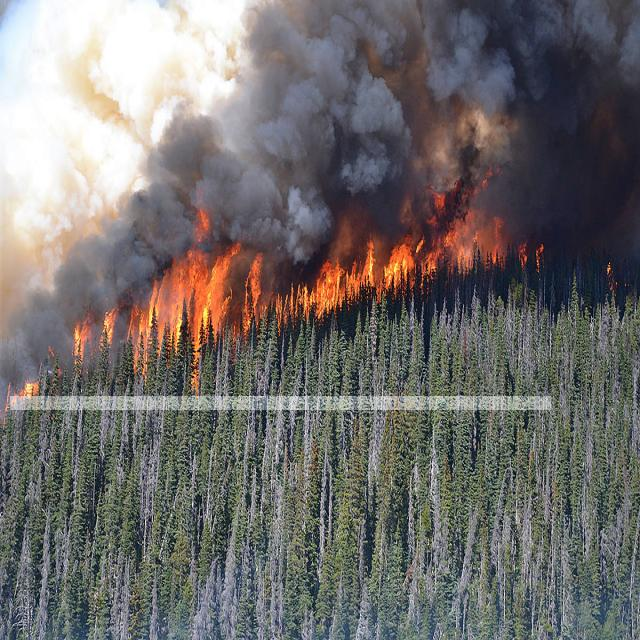Fire: (10, 196, 551, 410)
Smoke: (2, 0, 640, 396)
